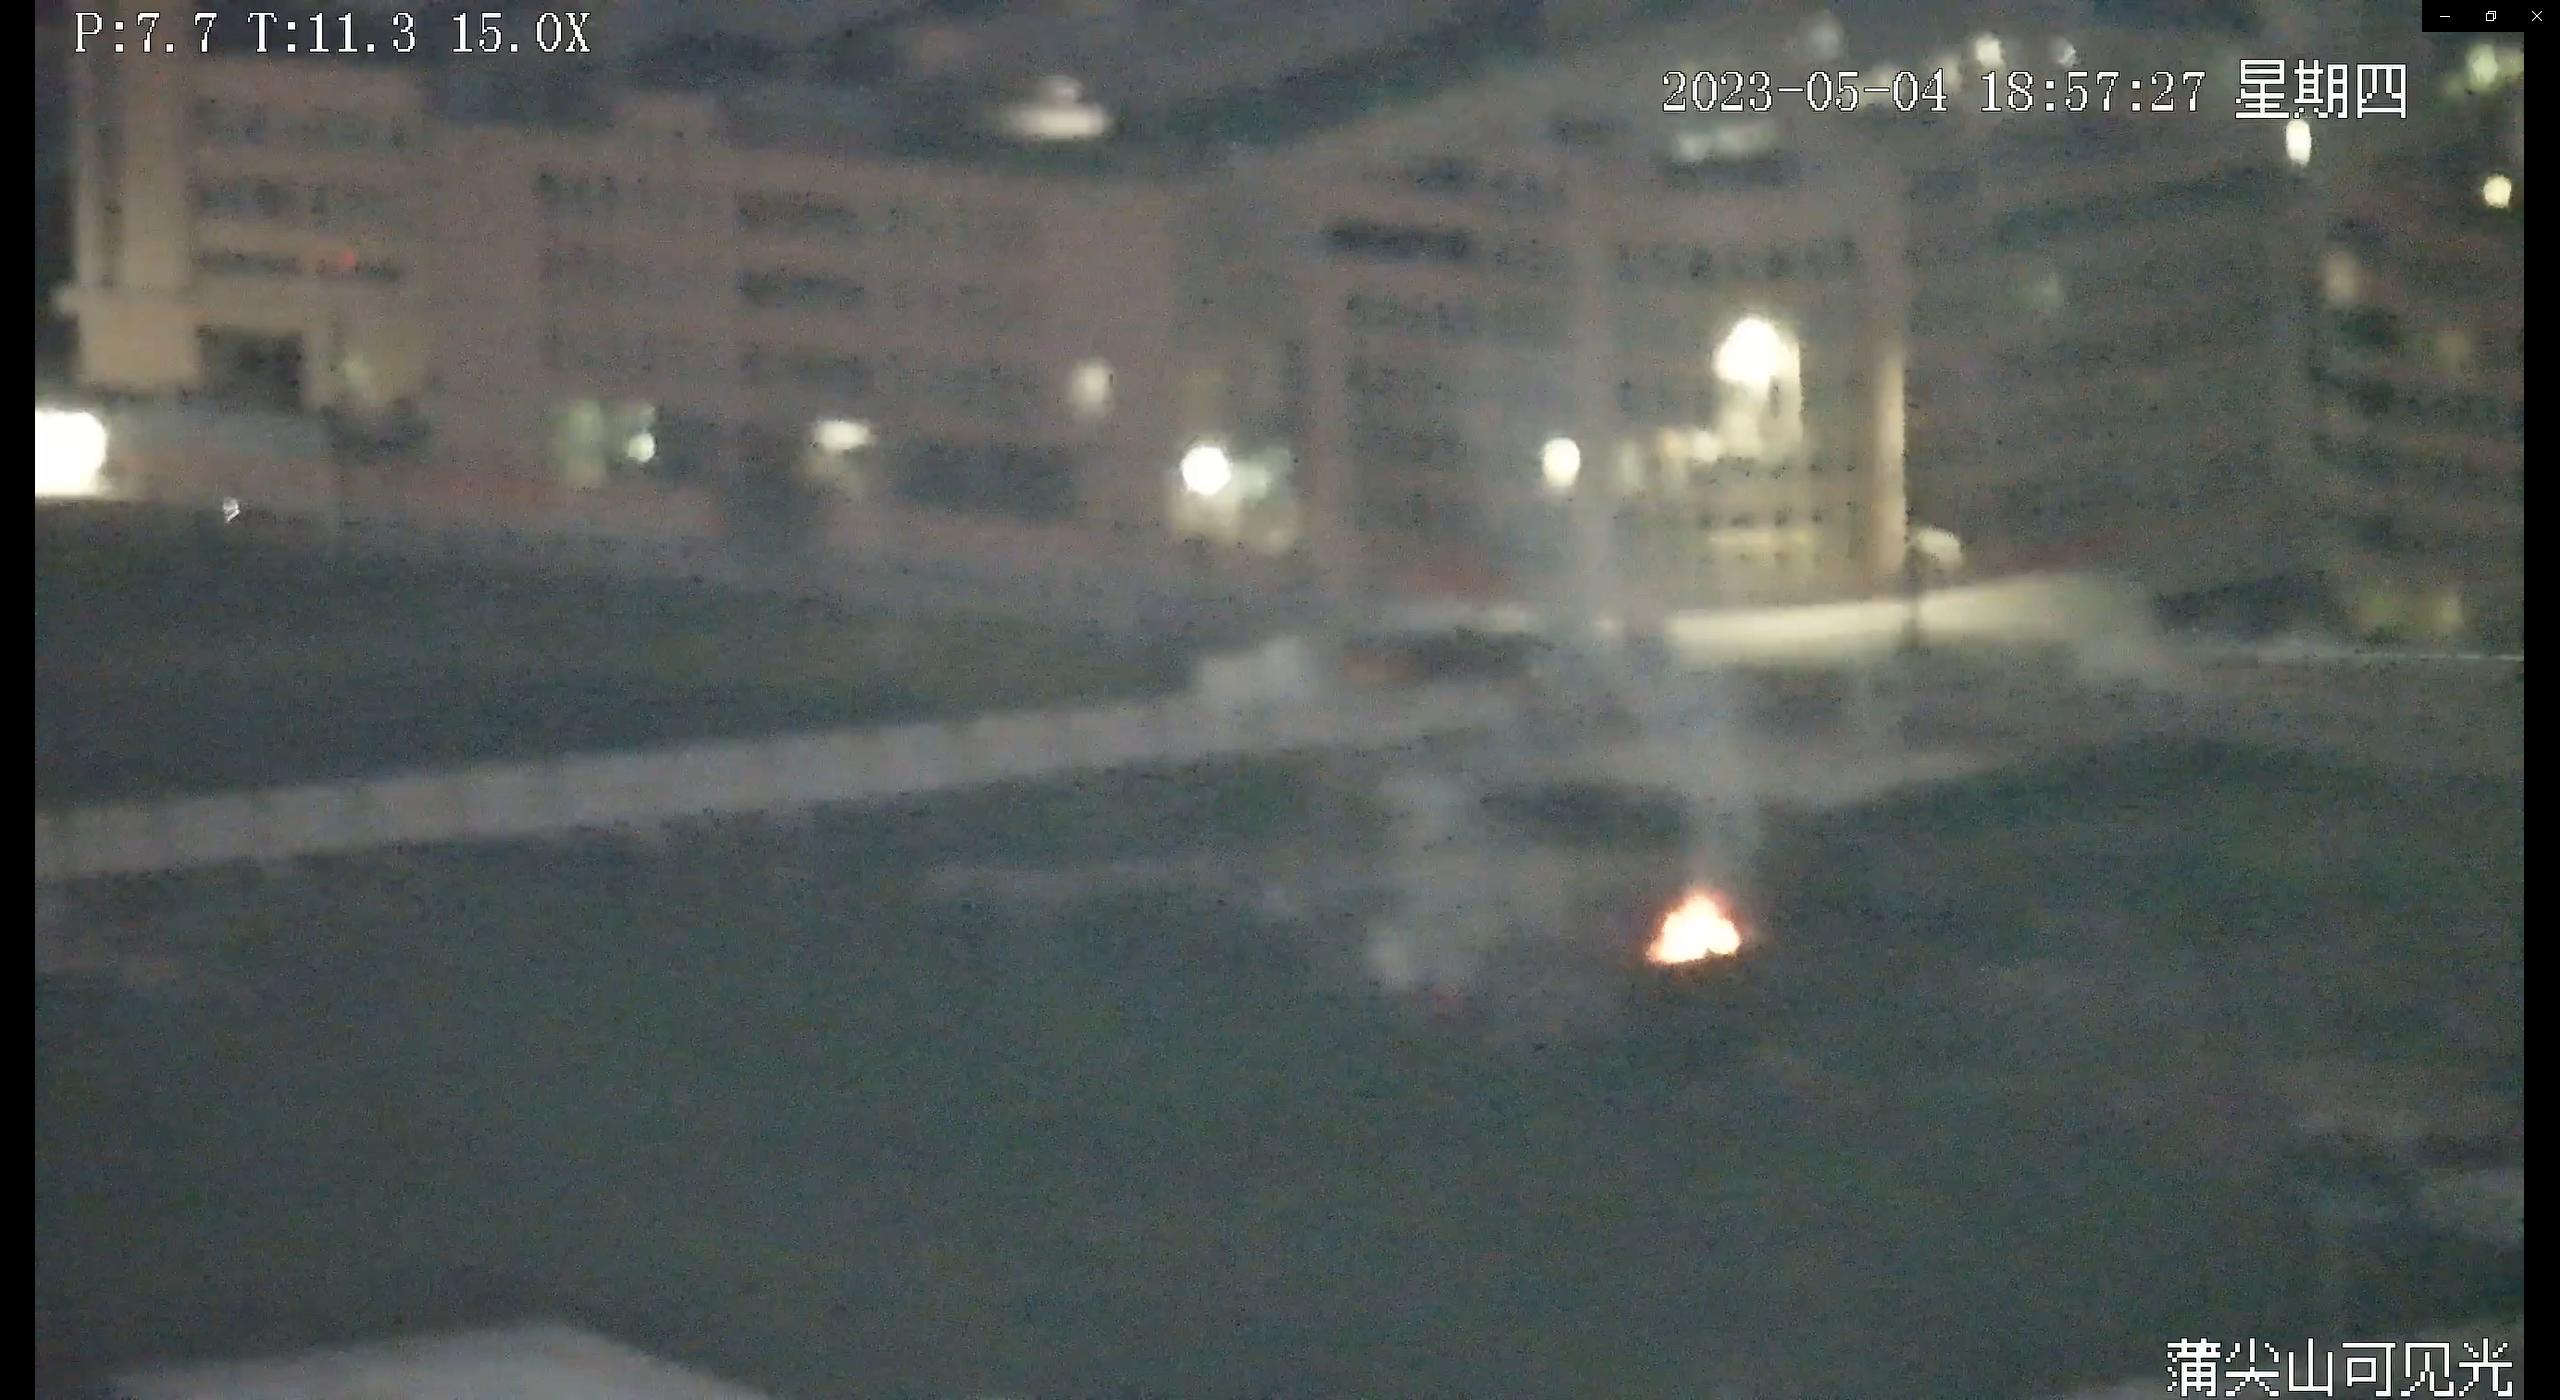Fire: (1648, 884, 1746, 971)
Smoke: (1588, 562, 1757, 883), (1339, 800, 1572, 993)
